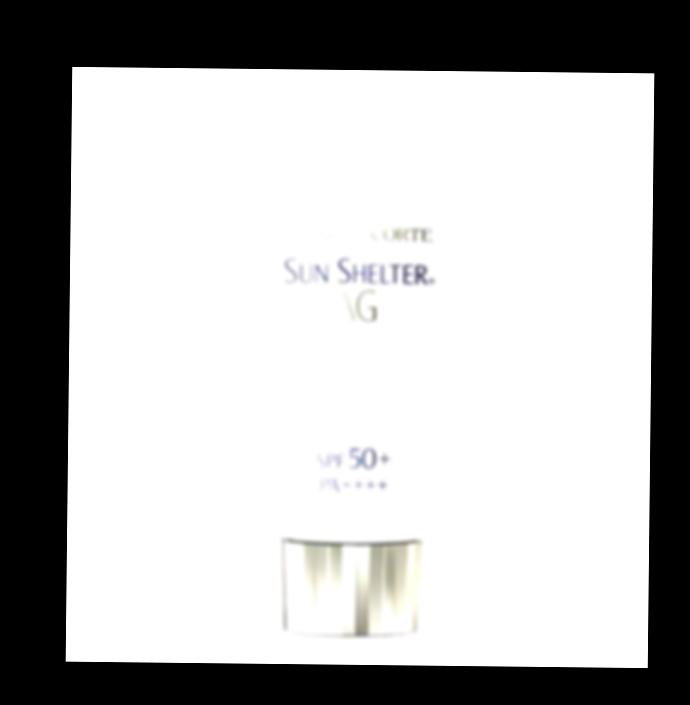cosmetic: (252, 114, 455, 638)
